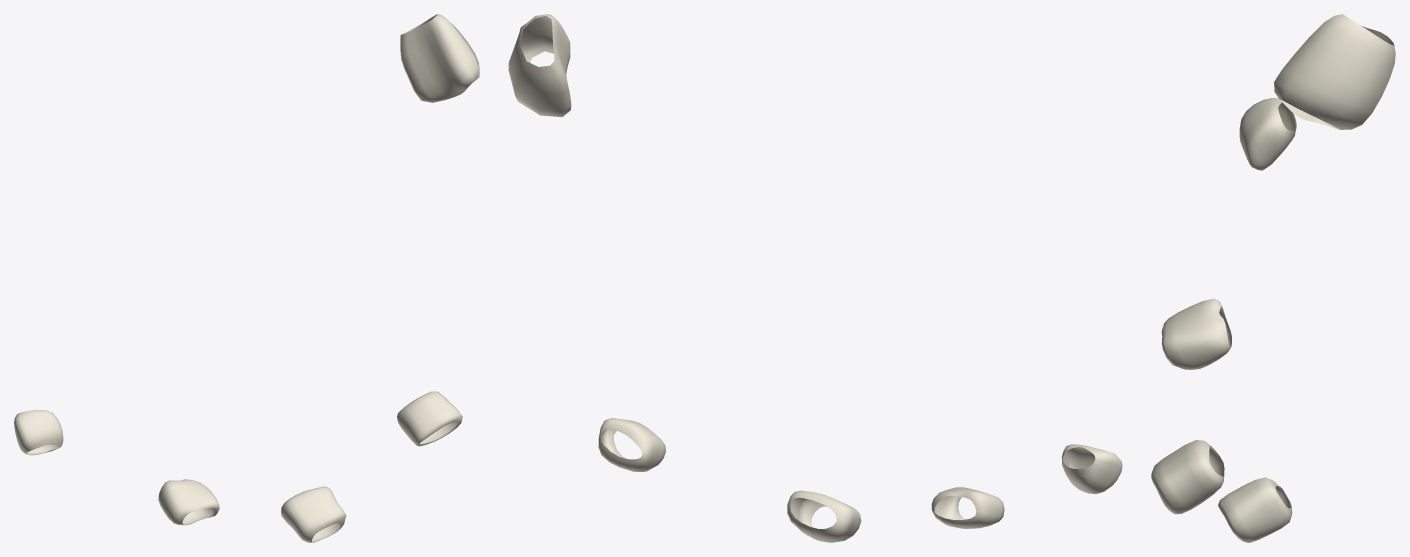
3 renders of one model, left to right at view 1: azimuth 30°, elevation 25°; view 2: azimuth 150°, elevation 25°; view 3: azimuth 270°, elevation 25°, orthographic. The views are drawn at different scales.
Parts seen in each view (by area): view 1: ZA_61a131d4dc768ed0; view 2: ZA_61a131d4dc768ed0; view 3: ZA_61a131d4dc768ed0.
Part boxes in pixels (x1,y1,x2,y2): ZA_61a131d4dc768ed0: (14,14,479,542); ZA_61a131d4dc768ed0: (508,14,1122,542); ZA_61a131d4dc768ed0: (1151,14,1395,542).
Size of the model in its own units: 0.1053 by 0.0919 by 0.0331.
